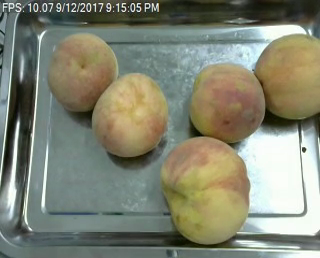Peach: (160, 135, 251, 247), (90, 74, 169, 158), (189, 62, 265, 142), (47, 31, 118, 112), (255, 32, 320, 119)
